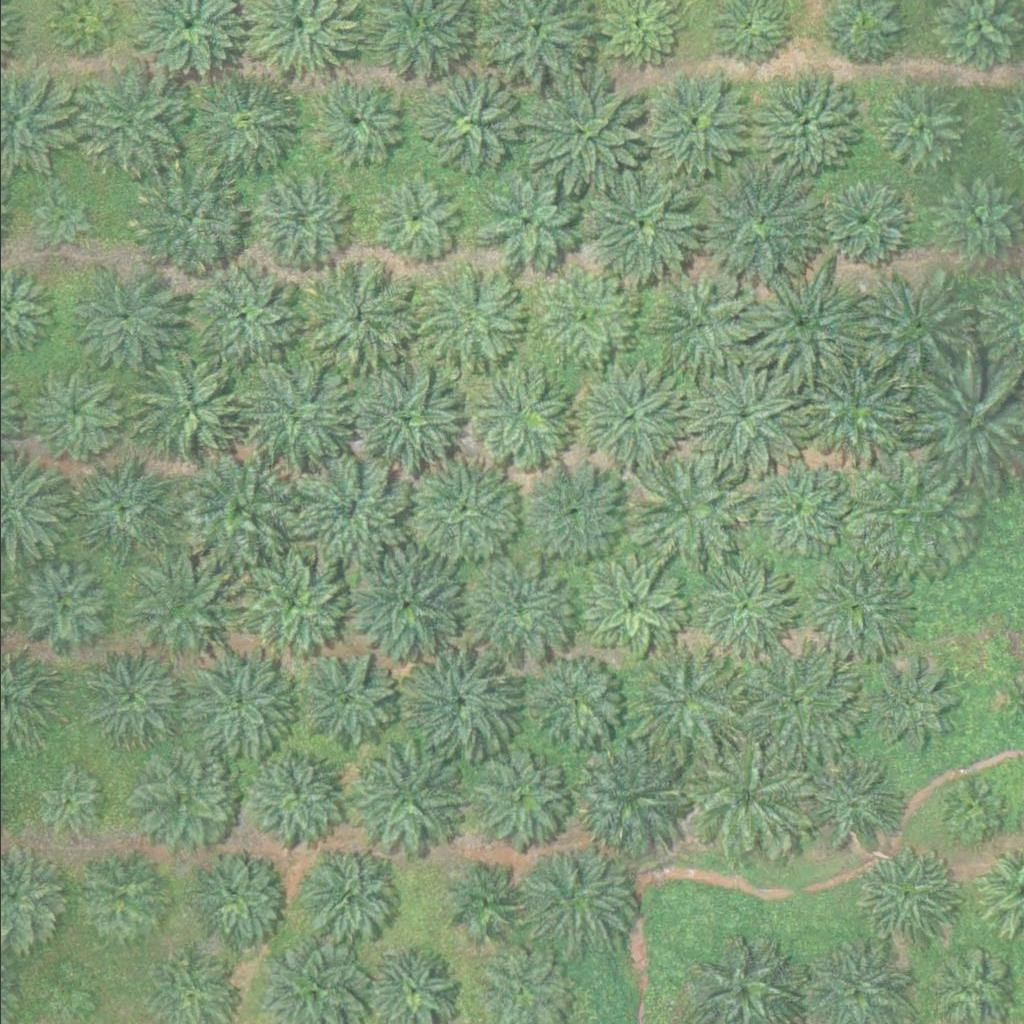Kelapa_Sawit: (853, 457, 967, 570), (690, 738, 804, 851), (516, 842, 630, 955), (62, 263, 176, 376), (749, 66, 862, 179), (633, 67, 746, 180), (700, 170, 813, 283), (582, 168, 695, 281), (410, 264, 523, 377), (301, 256, 414, 369), (800, 349, 913, 462), (738, 452, 851, 565), (631, 456, 744, 569), (517, 453, 630, 566), (463, 556, 576, 669), (353, 548, 466, 661), (178, 649, 291, 762), (232, 550, 345, 663), (233, 361, 346, 474), (134, 352, 247, 465), (182, 261, 295, 374), (296, 69, 410, 181), (805, 547, 919, 659), (690, 551, 804, 663), (738, 646, 852, 758), (630, 643, 744, 755), (577, 743, 691, 855), (462, 740, 576, 852), (127, 163, 241, 275), (184, 66, 298, 178), (851, 648, 964, 760), (857, 272, 970, 384), (527, 76, 640, 188), (414, 70, 527, 182), (742, 267, 855, 379), (640, 269, 753, 381), (681, 358, 794, 470), (570, 359, 683, 471), (346, 364, 459, 476), (403, 452, 516, 564), (291, 453, 404, 565), (410, 644, 523, 756), (345, 742, 458, 854), (121, 552, 234, 664), (181, 455, 294, 567), (69, 451, 182, 563), (72, 69, 185, 181), (856, 844, 957, 944), (477, 169, 578, 269), (531, 265, 632, 365), (471, 365, 572, 465), (584, 555, 685, 655), (293, 650, 394, 750), (797, 750, 898, 850), (190, 847, 291, 947), (71, 851, 172, 951), (245, 747, 346, 847), (133, 748, 234, 848), (84, 648, 185, 748), (7, 558, 108, 658), (249, 172, 349, 272), (528, 651, 628, 751), (295, 840, 395, 940), (26, 362, 126, 462), (934, 175, 1022, 263), (817, 180, 905, 268), (874, 84, 963, 171), (371, 178, 459, 265), (450, 863, 526, 938), (27, 761, 102, 836), (940, 778, 1003, 841), (35, 958, 98, 1020), (30, 187, 93, 249)
